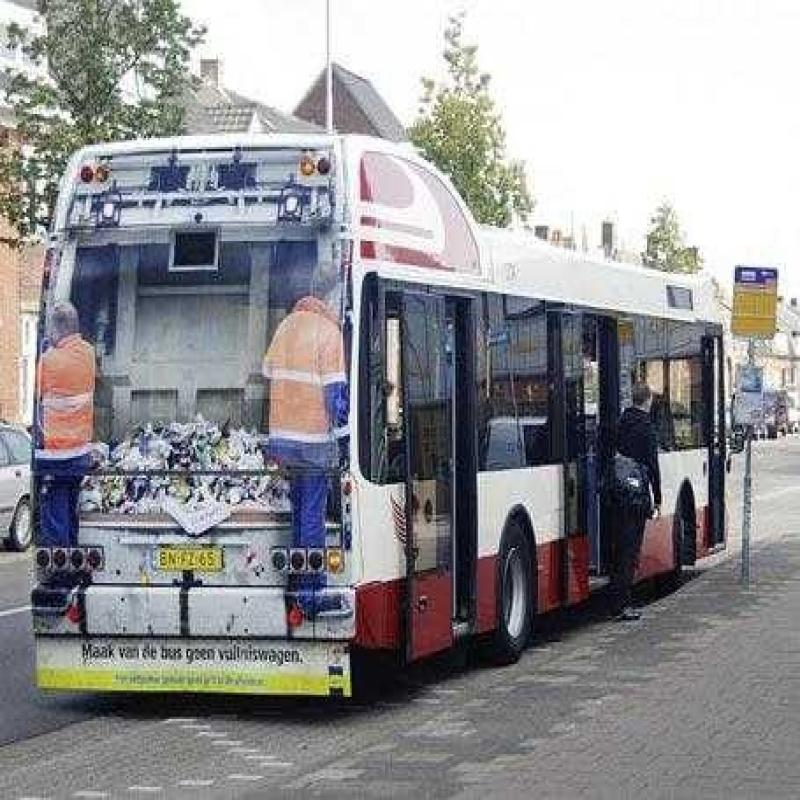bus: (40, 103, 749, 702)
